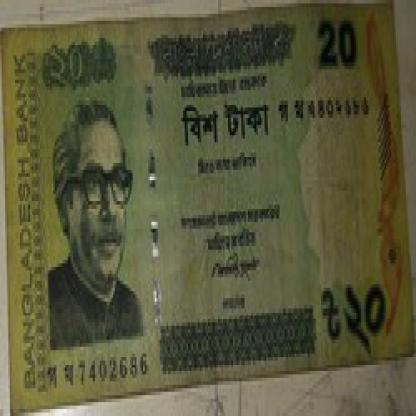Twenty: (173, 97, 276, 156), (321, 281, 391, 360), (42, 38, 130, 90), (304, 7, 362, 80)
